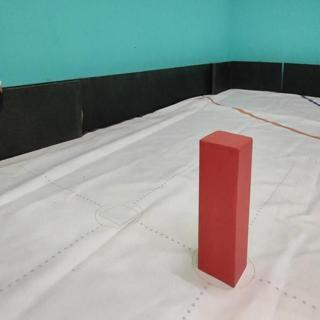redbox: (199, 130, 253, 288)
